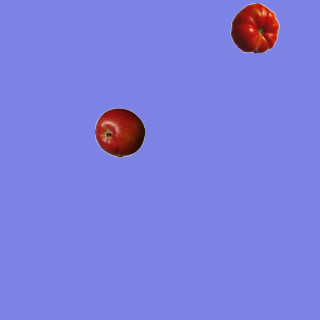Apple Braeburn: (94, 107, 144, 157)
Tomato 3: (229, 2, 279, 52)
